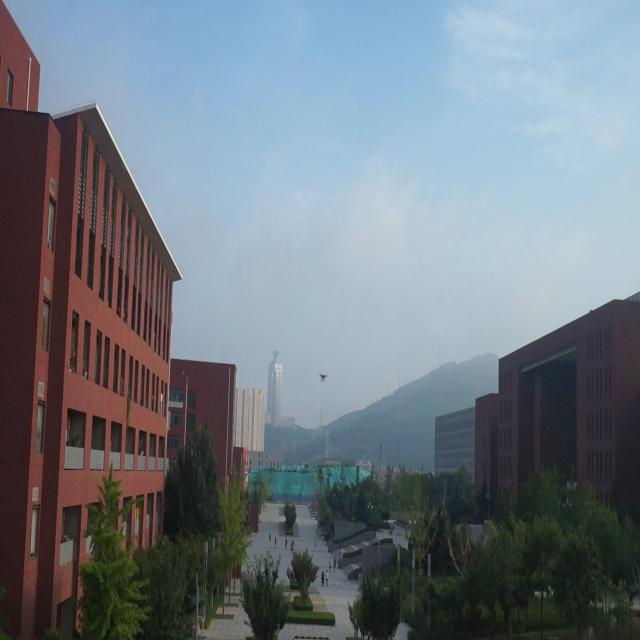drone: (317, 369, 330, 386)
